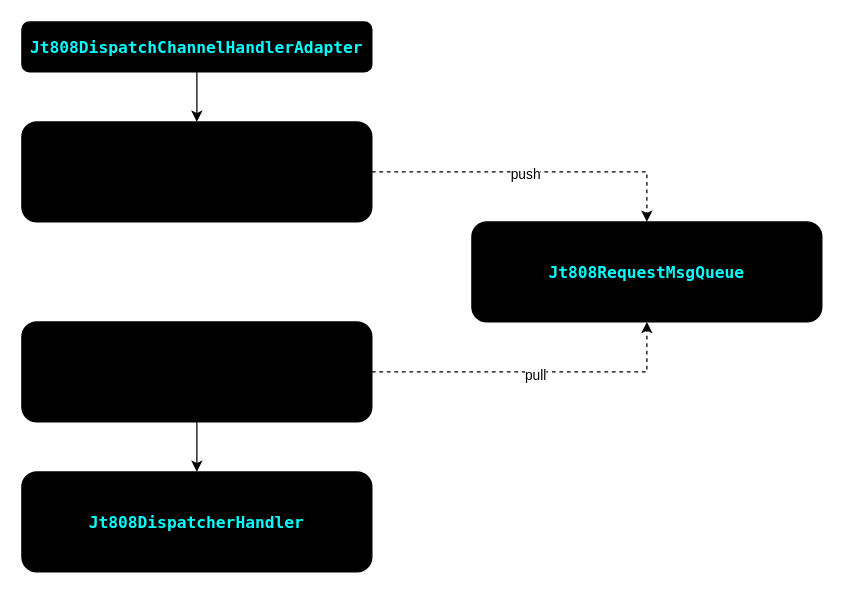
This 844x594 diagram has some shape labels left out. The shapes that lost their labels are listed below. From the top down, each one's centre as x and y in pixels, then its label:
point (196, 171): Jt808RequestMsgDispatcher 默认使用基于Google EventBus 的 LocalEventBusDispatcher
point (196, 371): Jt808RequestMsgQueueListener 默认使用基于 Google EventBus 的 LocalEventBusListener
